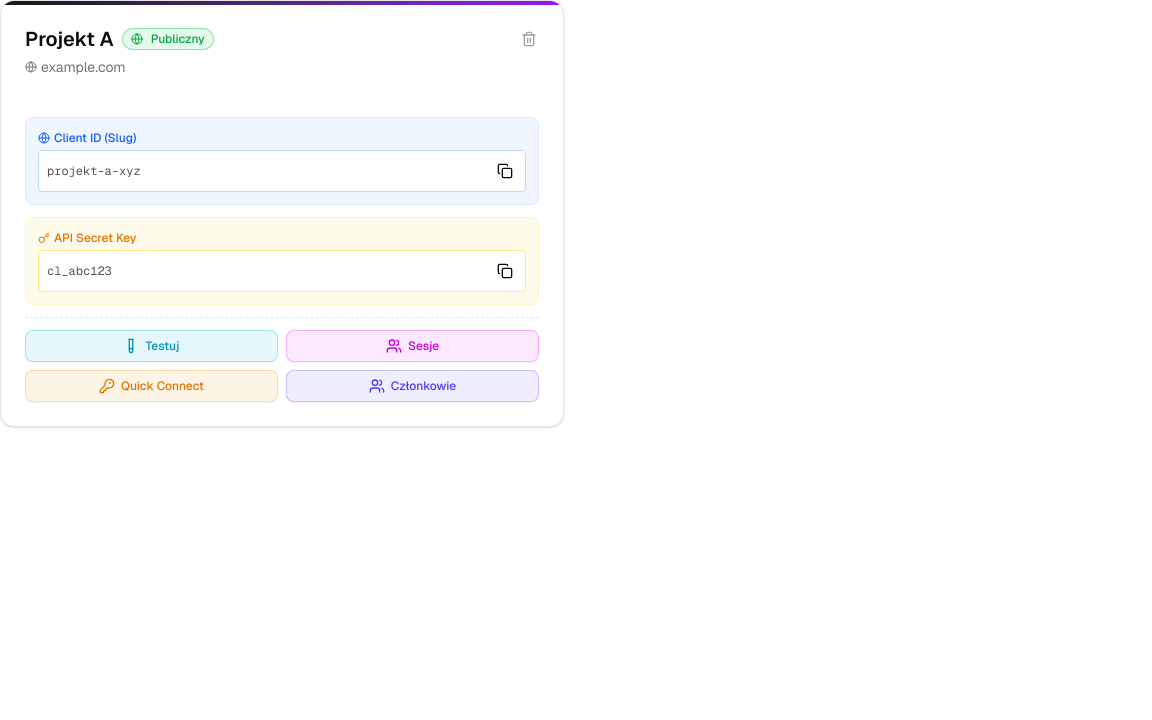
it: ProjectList › otwiera modal potwierdzenia usunięcia po kliknięciu kosza
// Kliknij przycisk usuwania (kosz)
Click the button named "Usuń projekt" at [529, 39], box [511,21,547,57]
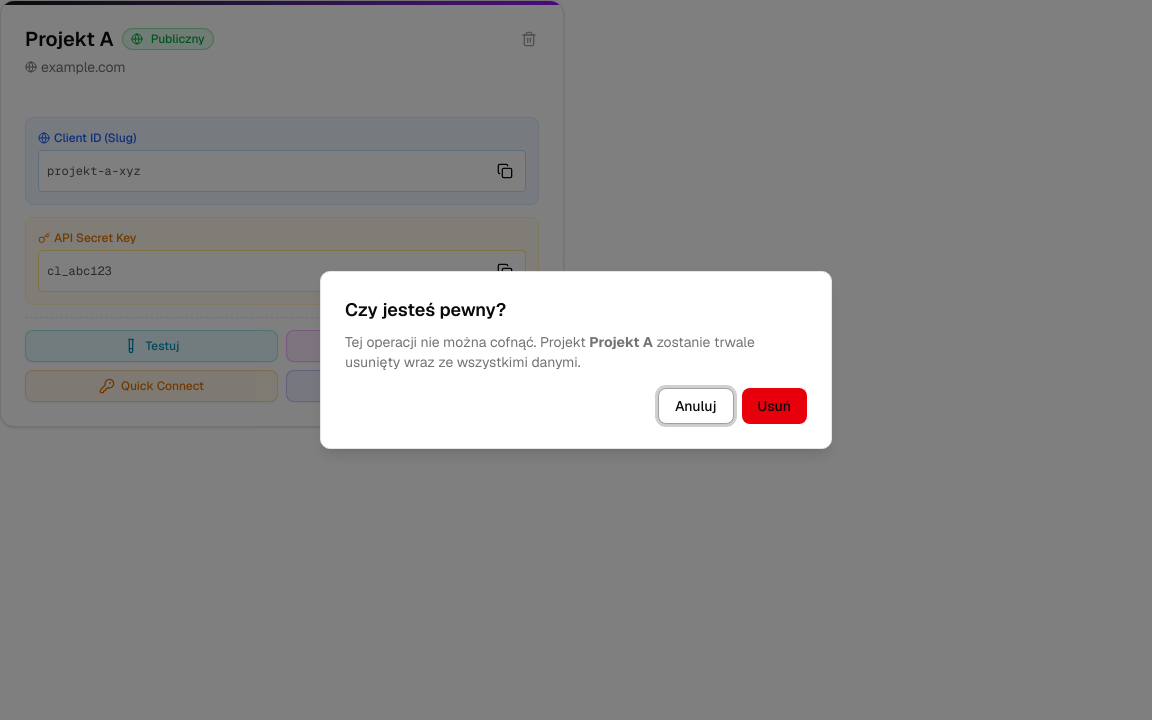
Now the dialog is shown, box [320,271,832,449]
Now the heading "Czy jesteś pewny?" is shown, box [345,298,506,321]
